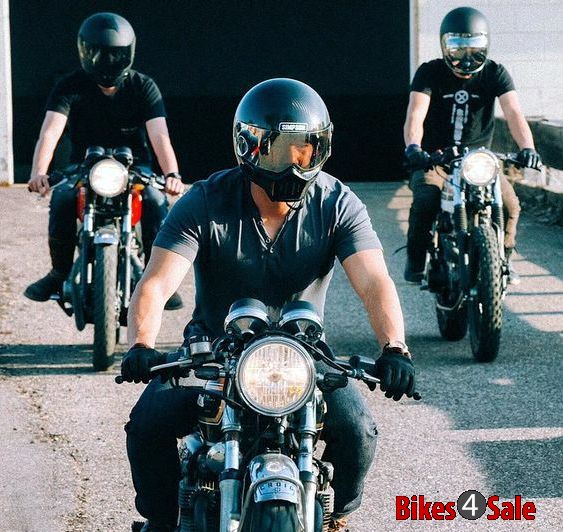helmet: (215, 67, 357, 299), (426, 4, 521, 143), (71, 9, 171, 135)
